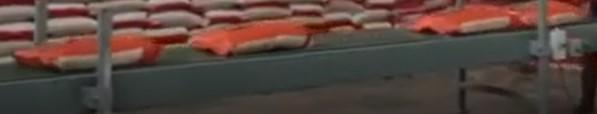rice-bag: (188, 20, 314, 56), (411, 4, 521, 34), (13, 37, 98, 70), (547, 0, 585, 25)
